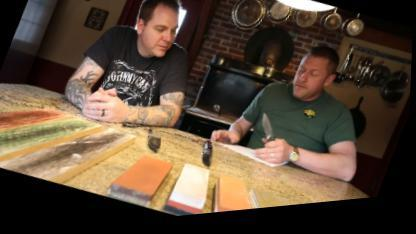knife: (243, 108, 302, 172)
